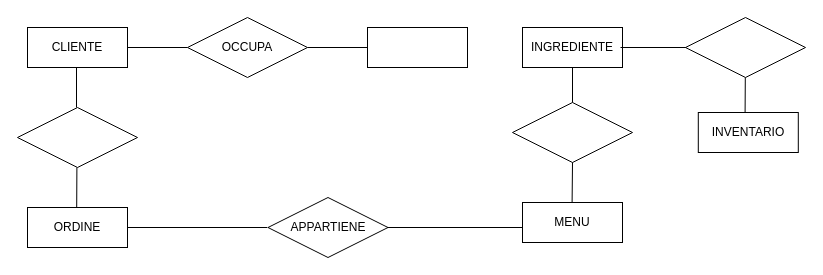
The diagram is 823 pixels wide and 275 high, and some of its shapes have lost their labels. The centre of each missing label's shape, as x and y in pixels:
CONTENUTO: the point at 572,132
DISPONIBILE: the point at 745,47
EFFETTUA: the point at 77,137
TAVOLO: the point at 417,47
